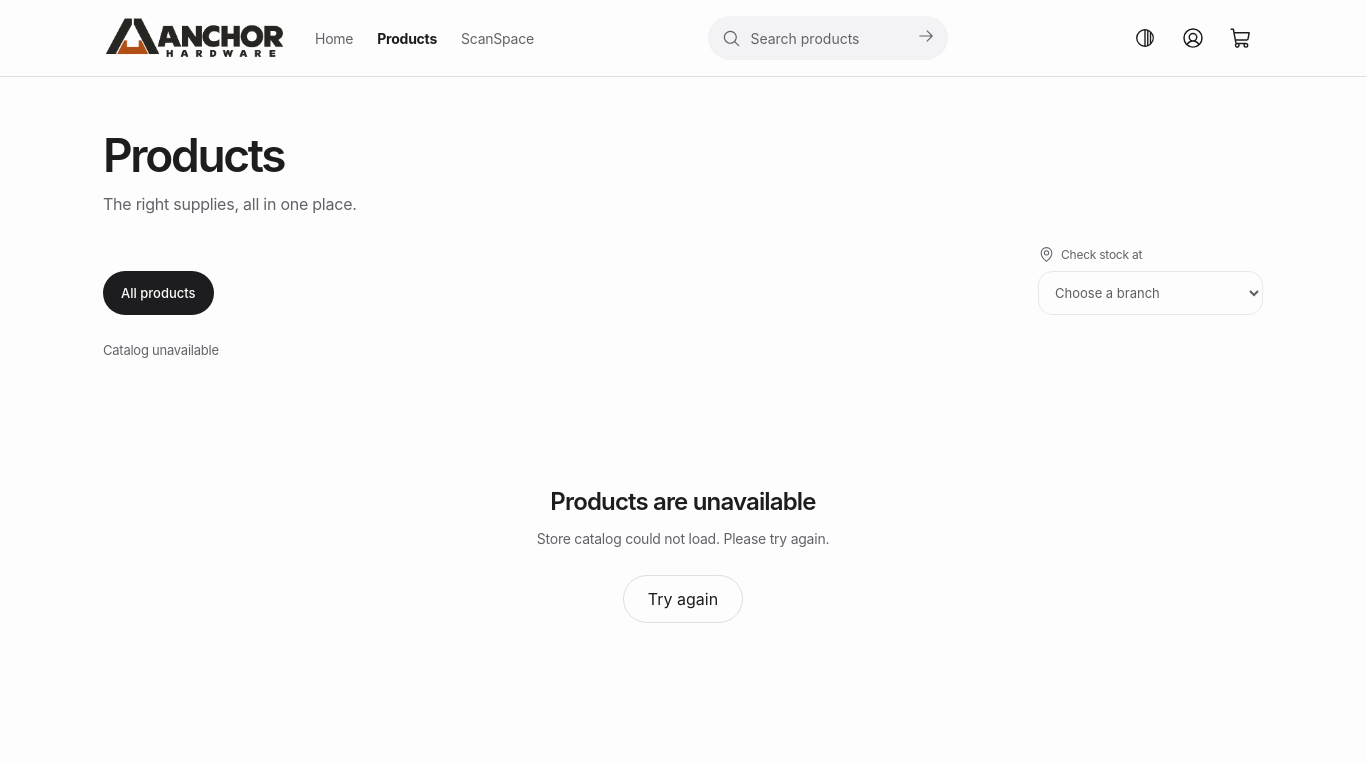
Test: an API failure shows a retry instead of sample products
Expected: the heading "Products are unavailable" is shown, [550,487,816,516]
Expected: the heading "Steel Claw Hammer" is not shown
Click the button "Try again". click: (683,599)
box: [623,575,743,623]
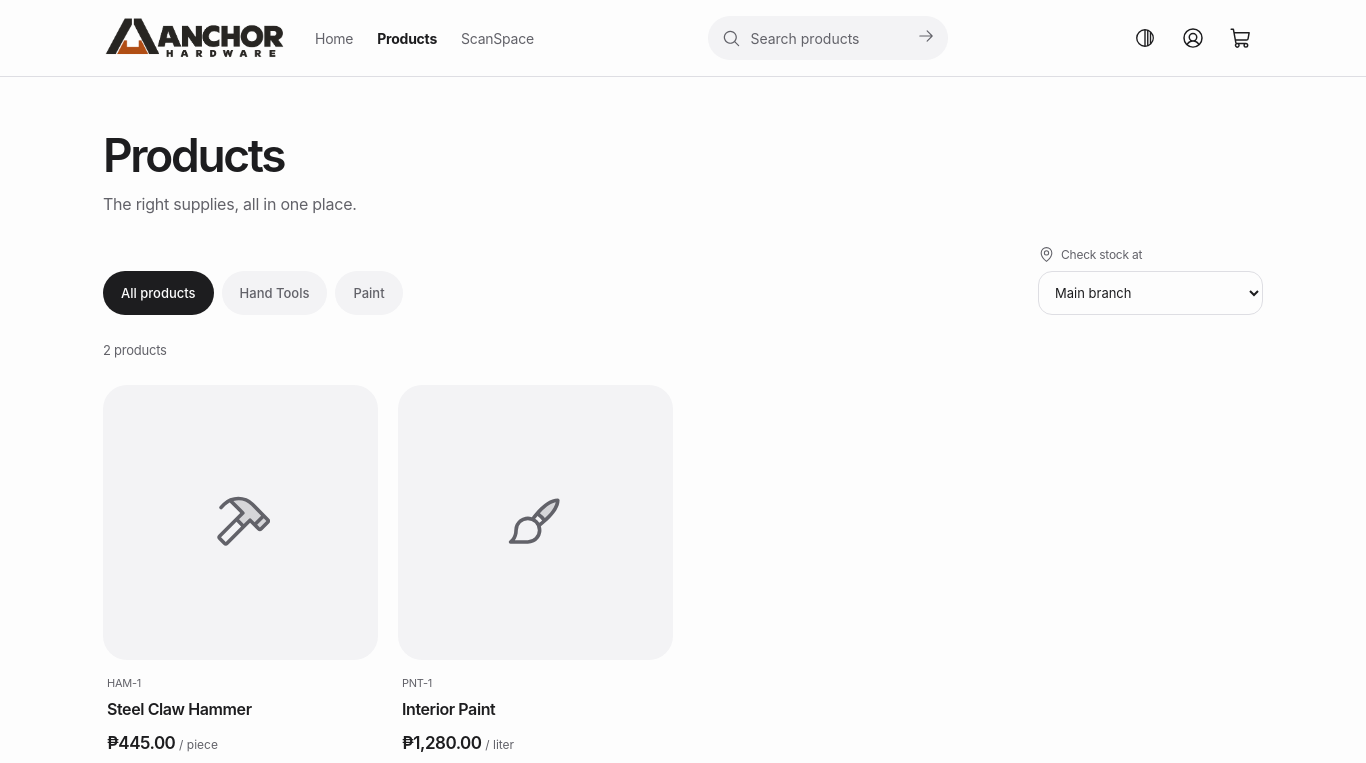
Result: the heading "Steel Claw Hammer" is shown at [107,699,252,719]
